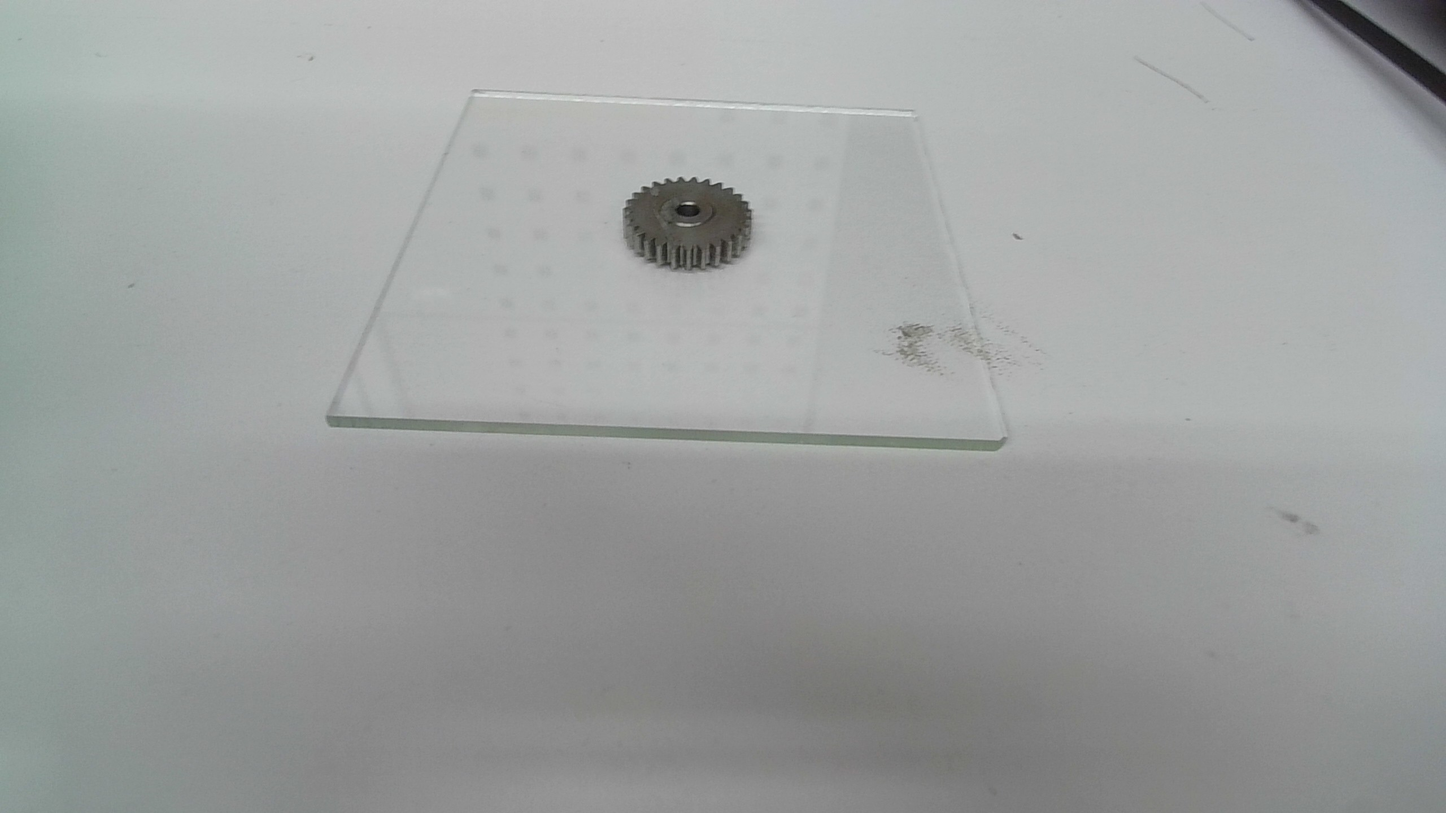gear: (620, 174, 754, 272)
